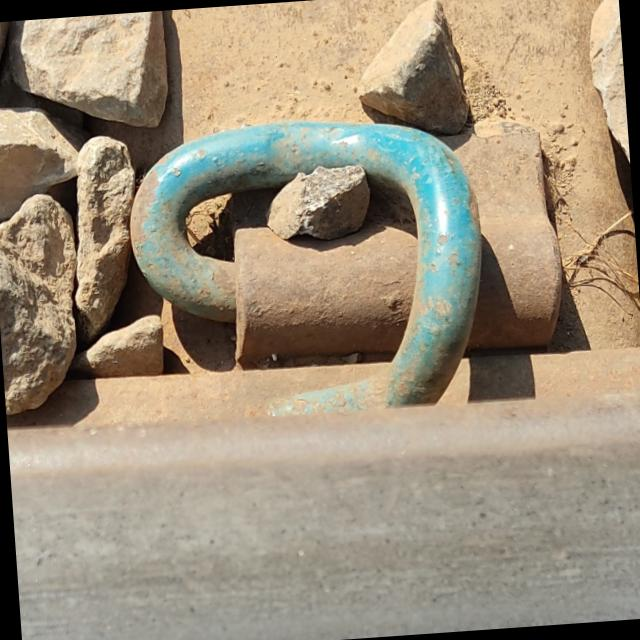track_bolt: (114, 104, 500, 428)
